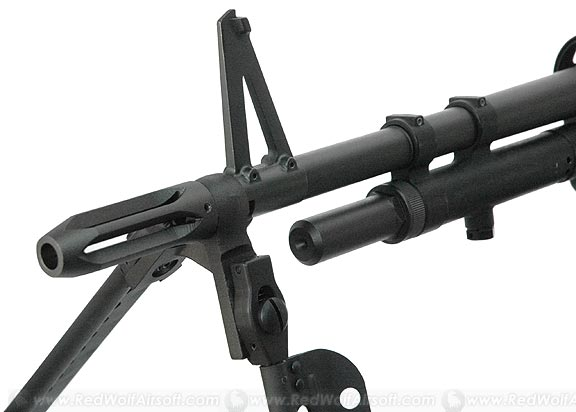rifle: (8, 26, 571, 402)
